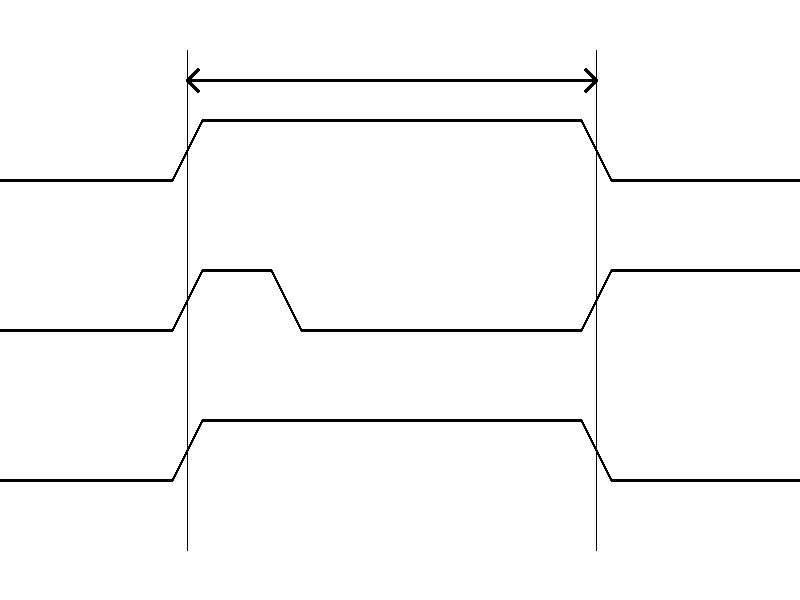double_arrow: (187, 65, 596, 95)
